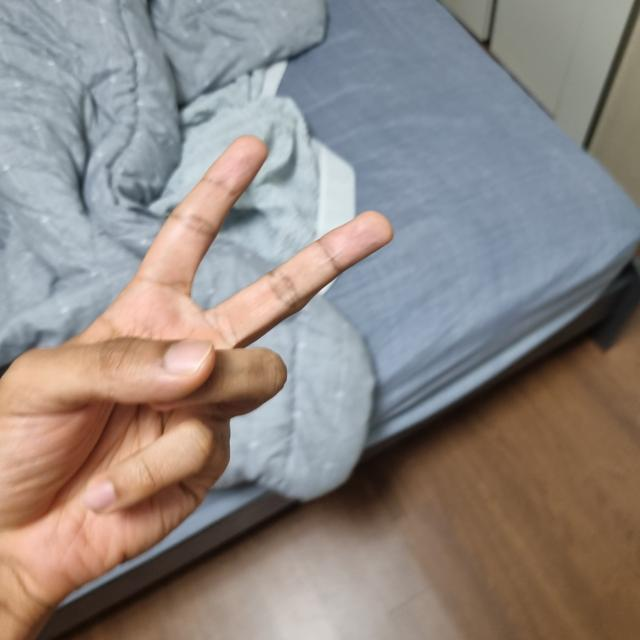Scissors: (0, 138, 390, 630)
